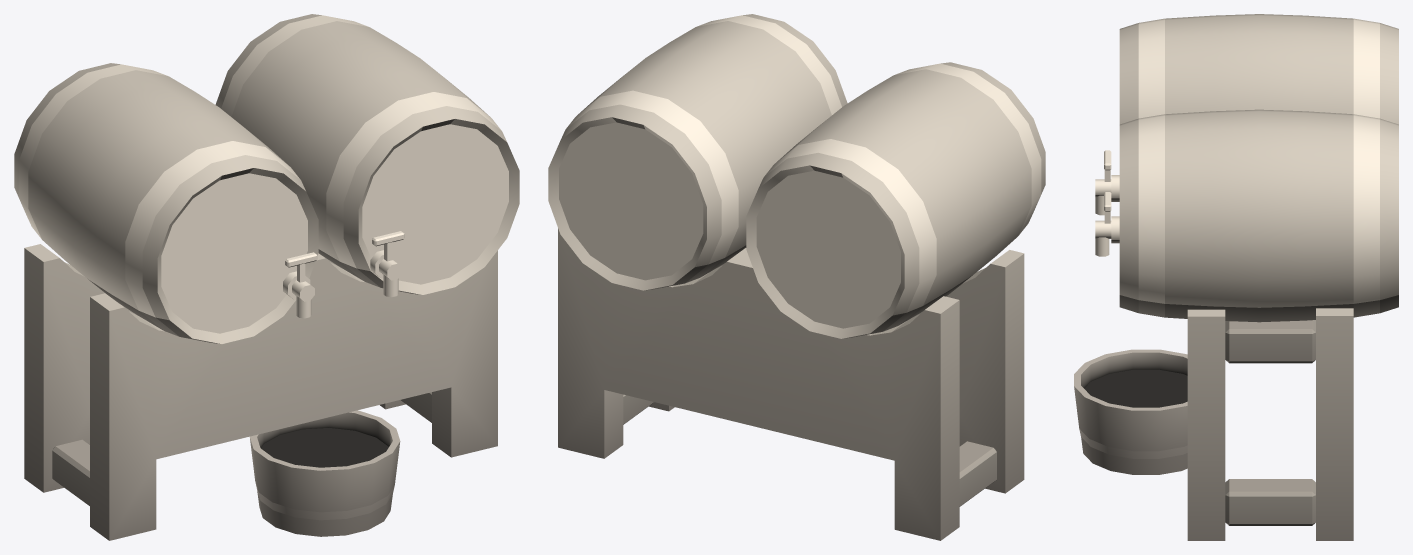
The model's file is SM_VKI_Prop_CaskRack_150.fbx.
3 renders of one model, left to right at view 1: azimuth 30°, elevation 25°; view 2: azimuth 150°, elevation 25°; view 3: azimuth 270°, elevation 25°, orthographic. The views are drawn at different scales.
Parts seen in each view (by area): view 1: SM_VKI_Prop_CaskRack_150.001; view 2: SM_VKI_Prop_CaskRack_150.001; view 3: SM_VKI_Prop_CaskRack_150.001.
Part boxes in pixels (x1=…): SM_VKI_Prop_CaskRack_150.001: x1=14, y1=14, x2=519, y2=540; SM_VKI_Prop_CaskRack_150.001: x1=548, y1=14, x2=1045, y2=540; SM_VKI_Prop_CaskRack_150.001: x1=1074, y1=14, x2=1398, y2=540.
Bounding box in the file's own units: 1.16 × 1.1 × 0.8613.
